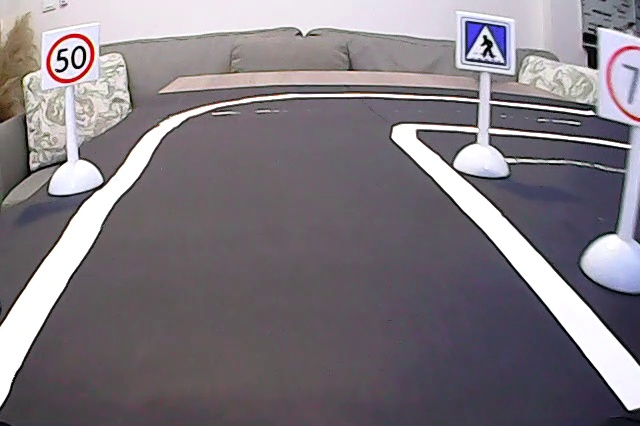pedestrian crossing: (461, 16, 510, 69)
speed limit 50: (45, 31, 97, 85)
